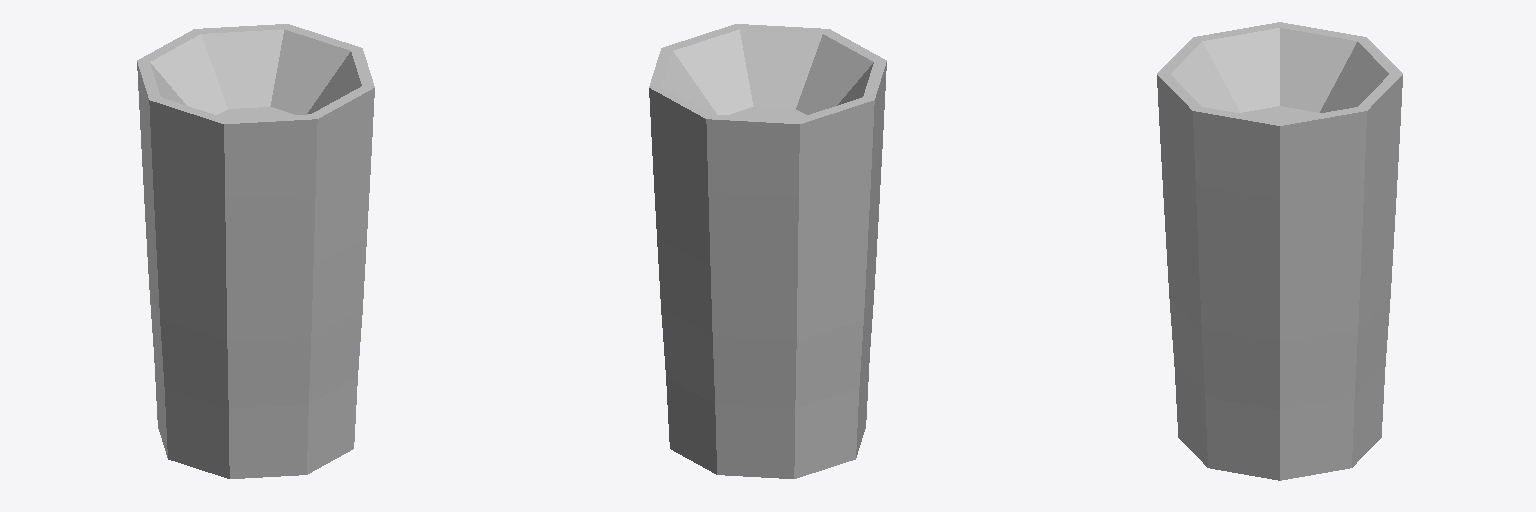
File: 872929-lavabo.obj
3 views of the same model, side by side, from view 1: azimuth 30°, elevation 25°; view 2: azimuth 150°, elevation 25°; view 3: azimuth 270°, elevation 25° (orthographic).
Parts seen in each view (by area): view 1: Cylinder007; view 2: Cylinder007; view 3: Cylinder007.
Part boxes in pixels (bbox=[...]): Cylinder007: bbox=[137, 24, 374, 478]; Cylinder007: bbox=[649, 24, 886, 478]; Cylinder007: bbox=[1157, 22, 1402, 480].
Size of the model in its own units: 24.63 by 40.11 by 24.63.